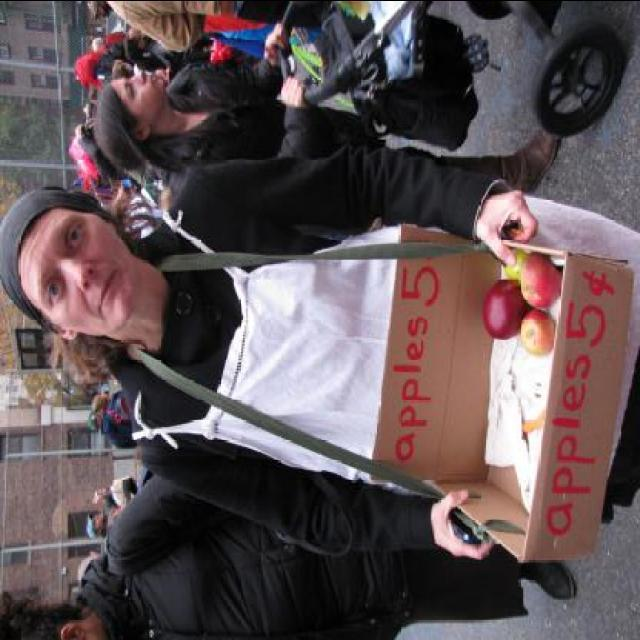Apple pie: (484, 279, 528, 343), (517, 250, 561, 308), (518, 308, 556, 359)
